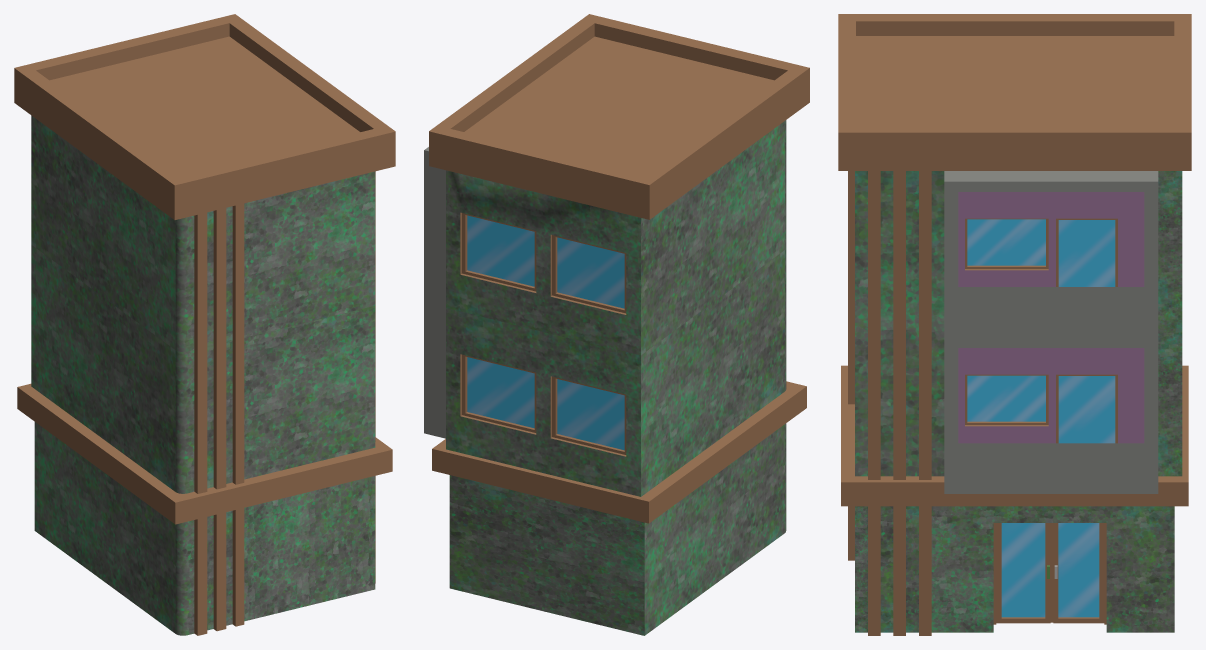
File: GreenHouse_tall.fbx
3 views of the same model, side by side, from view 1: azimuth 30°, elevation 25°; view 2: azimuth 150°, elevation 25°; view 3: azimuth 270°, elevation 25° (orthographic). The views are drawn at different scales.
Visible parts, largest first — view 1: GreenHouse_tall; view 2: GreenHouse_tall; view 3: GreenHouse_tall.
Boxes of the visible parts, x1,y1,x2,y2 form: GreenHouse_tall: [14, 14, 395, 635]; GreenHouse_tall: [424, 14, 809, 635]; GreenHouse_tall: [838, 14, 1191, 635].
Bounding box in the file's own units: 39.57 × 62.59 × 34.29.
